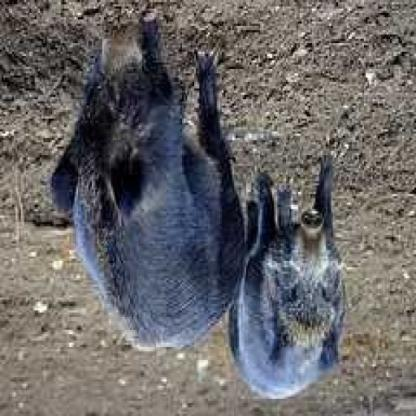boar: (65, 23, 241, 367), (219, 148, 360, 416)
